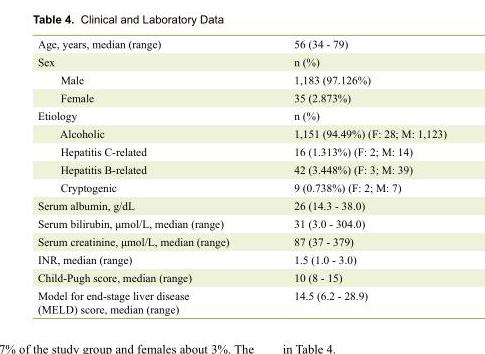table: (36, 37, 446, 314)
table column: (36, 37, 260, 314), (260, 37, 446, 314)
table row: (36, 286, 446, 314), (36, 52, 446, 70), (36, 70, 446, 88), (36, 88, 446, 106), (36, 106, 446, 124), (36, 124, 446, 142), (36, 142, 446, 160), (36, 160, 446, 178), (36, 178, 446, 196), (36, 196, 446, 214), (36, 214, 446, 232), (36, 232, 446, 250), (36, 250, 446, 268), (36, 268, 446, 286), (36, 37, 446, 52)
